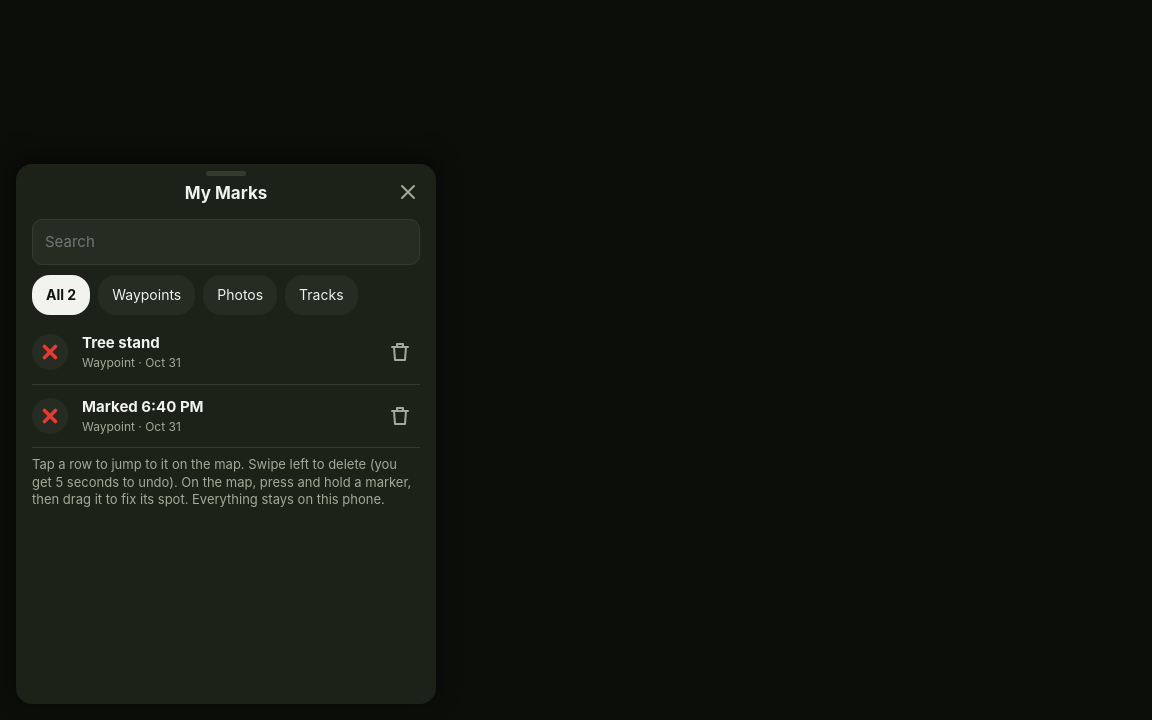
My Marks sheet › Undo brings the row back and never deletes
Click the button with test id "mark-del-w1".
click(400, 352)  # box [380, 332, 420, 372]
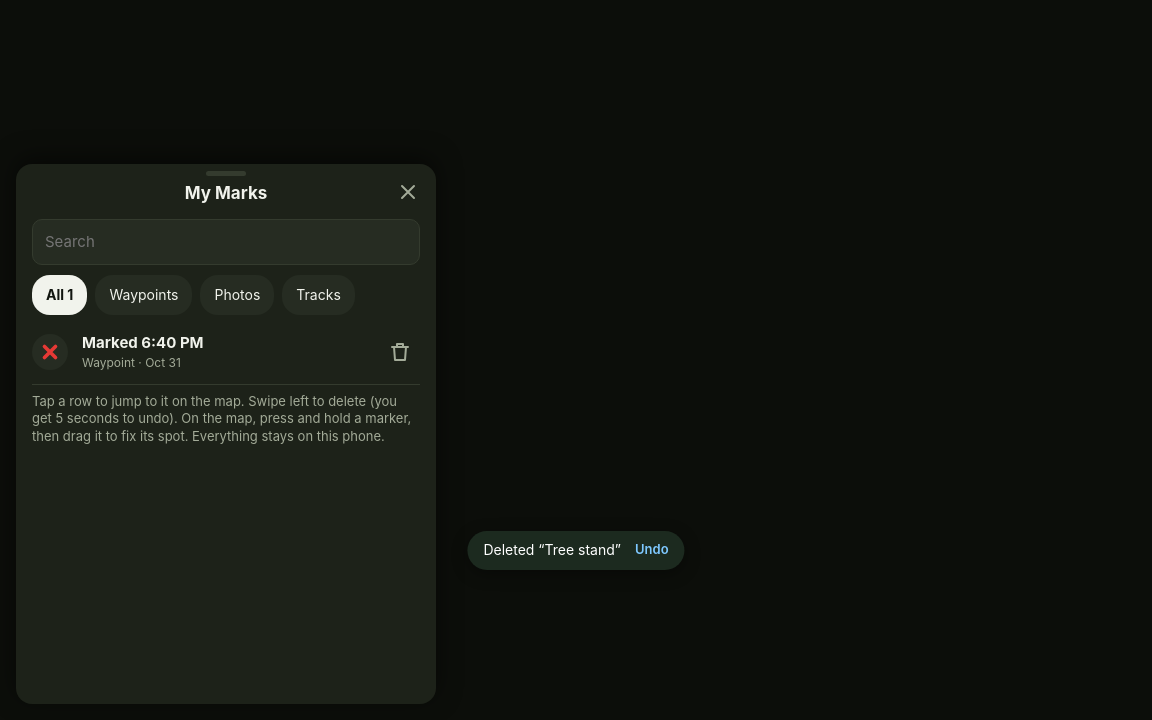
Click the button "Undo".
click(652, 550)  # box [635, 541, 669, 559]
Wait 10000 ms
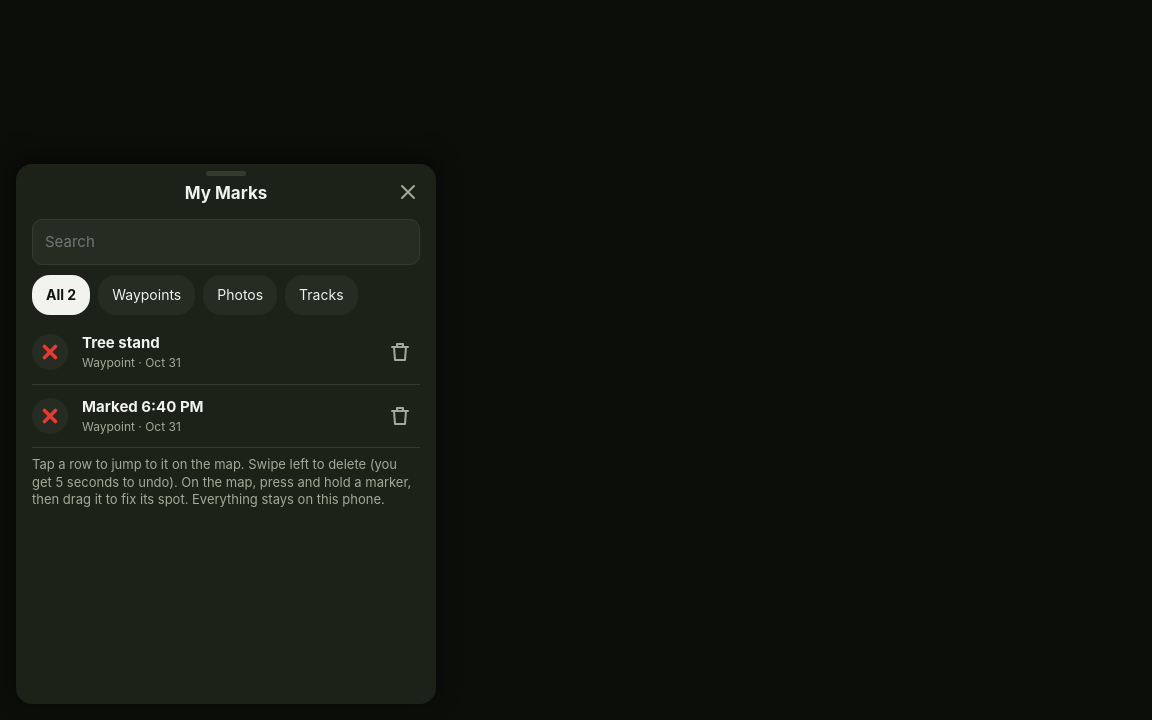
Expected: the list item with test id "mark-w1" is shown, [32, 321, 420, 385]
